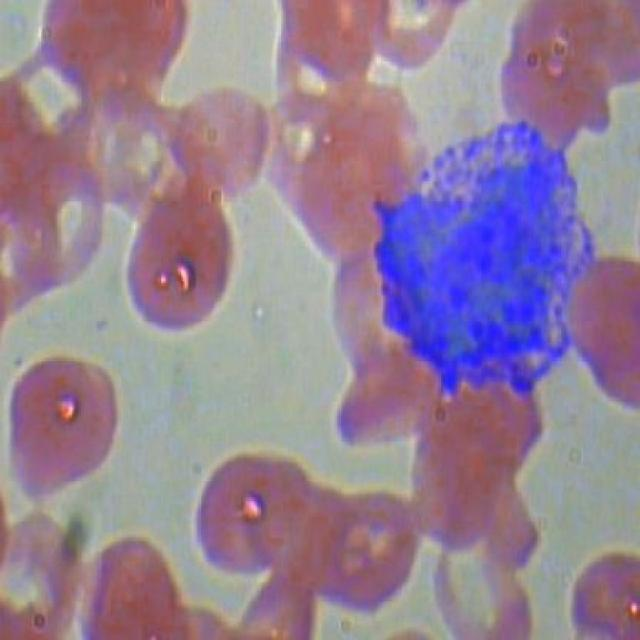RBC: (120, 193, 245, 342), (9, 357, 134, 506), (28, 2, 194, 108), (556, 234, 638, 420), (168, 78, 278, 214), (5, 168, 114, 304), (273, 478, 382, 614), (318, 488, 427, 624), (220, 454, 329, 589), (76, 82, 184, 218), (182, 454, 290, 589), (72, 530, 205, 638), (1, 49, 104, 186), (414, 412, 503, 562), (333, 352, 453, 462), (426, 530, 545, 638), (278, 1, 384, 94), (366, 1, 472, 94), (550, 540, 638, 638)
WBC: (370, 122, 612, 396)
